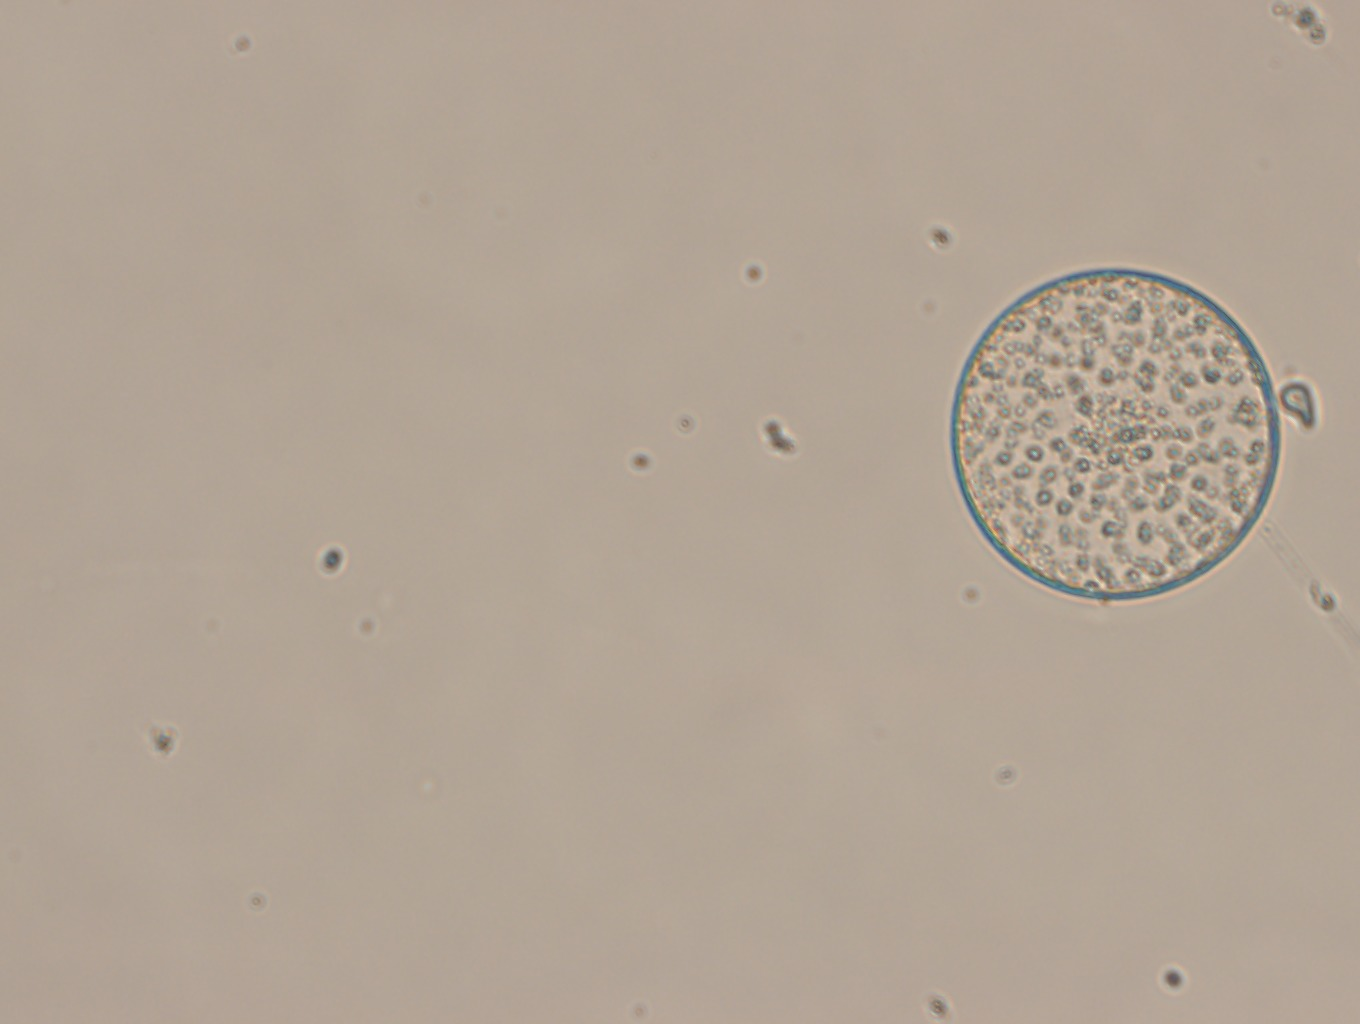coscinodiscus: (951, 269, 1282, 605)
